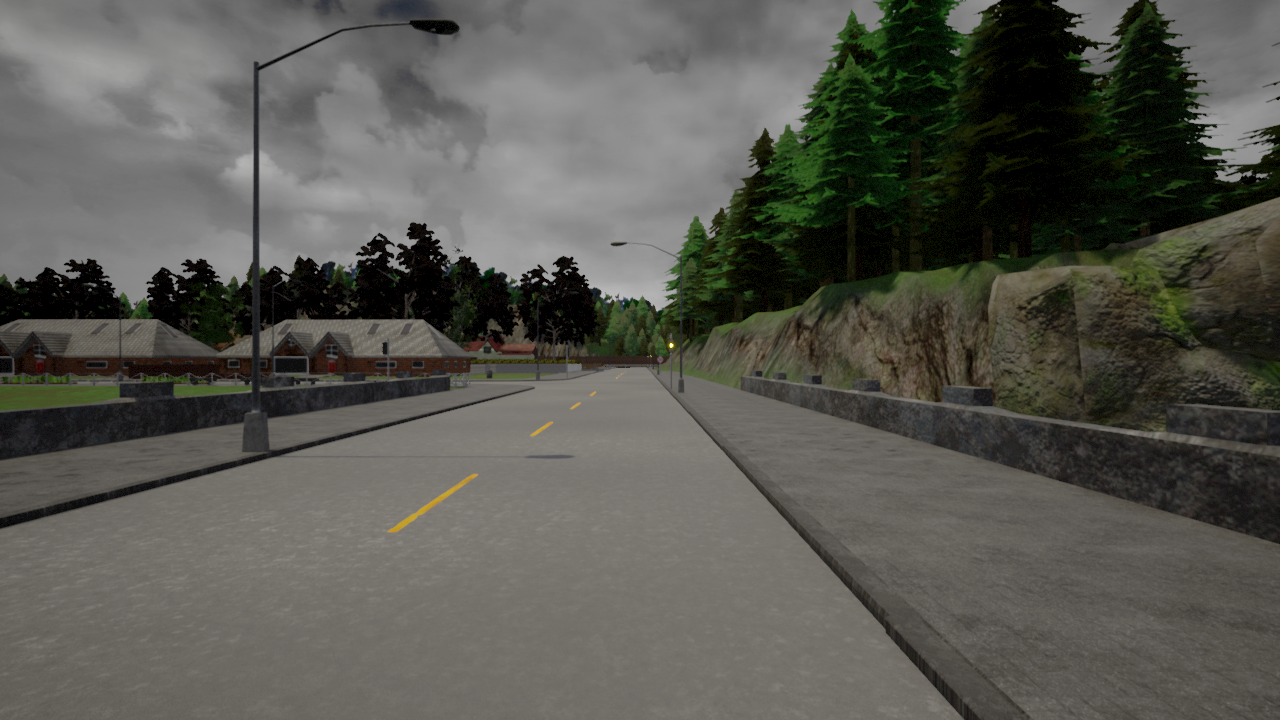yellow: (668, 337, 674, 354)
